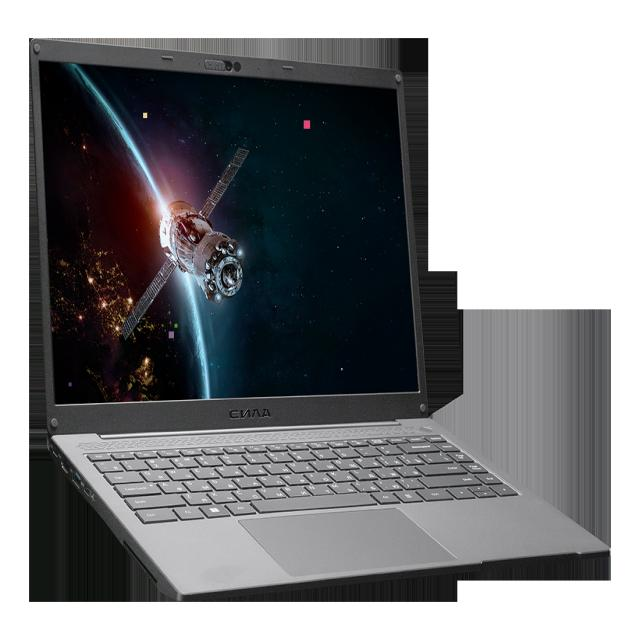dead_pixel: (304, 120, 310, 128), (169, 331, 173, 338), (143, 113, 147, 117), (69, 382, 71, 386), (175, 324, 177, 327), (341, 368, 342, 370)
